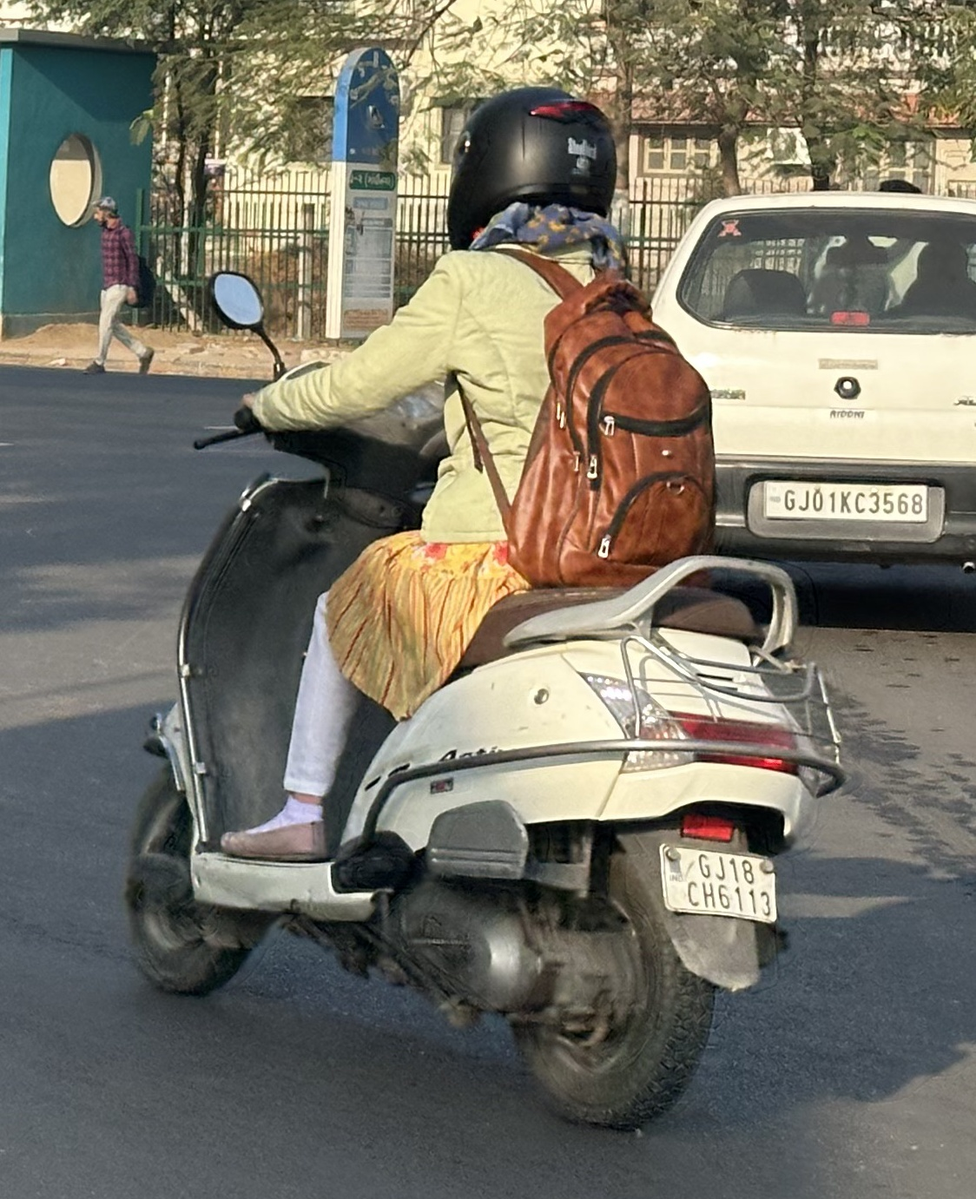BikeWithRider: (106, 73, 863, 1143)
Helmet: (432, 76, 633, 262)
